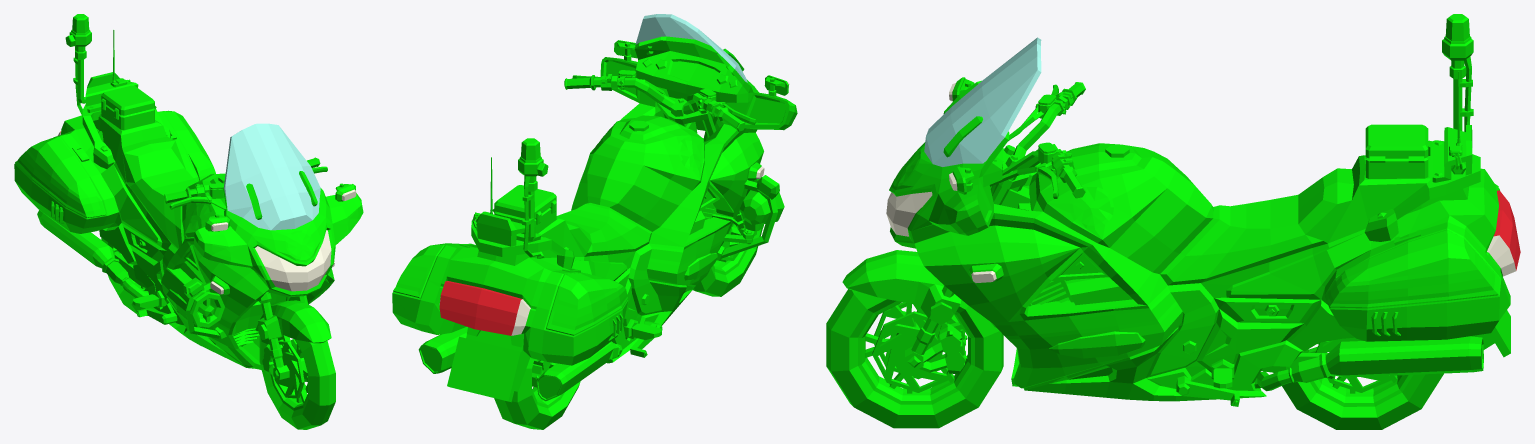
File: SM_Motorcycle_Police_Touring_Modern.fbx
3 views of the same model, side by side, from view 1: azimuth 30°, elevation 25°; view 2: azimuth 150°, elevation 25°; view 3: azimuth 270°, elevation 25° (orthographic). The views are drawn at different scales.
Visible parts, largest first — view 1: SM_Motorcycle_Police_Touring_Modern_Base, SM_Motorcycle_Police_Touring_Modern_Wheel_F, SM_Motorcycle_Police_Touring_Handlebars_Modern_Base, SM_Motorcycle_Police_Touring_Modern_Wheel_B; view 2: SM_Motorcycle_Police_Touring_Modern_Base, SM_Motorcycle_Police_Touring_Handlebars_Modern_Base, SM_Motorcycle_Police_Touring_Modern_Wheel_B, SM_Motorcycle_Police_Touring_Modern_Wheel_F; view 3: SM_Motorcycle_Police_Touring_Modern_Base, SM_Motorcycle_Police_Touring_Modern_Wheel_F, SM_Motorcycle_Police_Touring_Handlebars_Modern_Base, SM_Motorcycle_Police_Touring_Modern_Wheel_B.
Part boxes in pixels (x1=…): SM_Motorcycle_Police_Touring_Modern_Base: x1=14, y1=14, x2=363, y2=369; SM_Motorcycle_Police_Touring_Modern_Wheel_F: x1=259, y1=335, x2=335, y2=429; SM_Motorcycle_Police_Touring_Handlebars_Modern_Base: x1=164, y1=157, x2=331, y2=380; SM_Motorcycle_Police_Touring_Modern_Wheel_B: x1=101, y1=237, x2=147, y2=315; SM_Motorcycle_Police_Touring_Modern_Base: x1=392, y1=14, x2=797, y2=402; SM_Motorcycle_Police_Touring_Handlebars_Modern_Base: x1=564, y1=70, x2=756, y2=247; SM_Motorcycle_Police_Touring_Modern_Wheel_B: x1=494, y1=357, x2=580, y2=429; SM_Motorcycle_Police_Touring_Modern_Wheel_F: x1=693, y1=177, x2=762, y2=296; SM_Motorcycle_Police_Touring_Modern_Base: x1=886, y1=14, x2=1520, y2=406; SM_Motorcycle_Police_Touring_Modern_Wheel_F: x1=826, y1=289, x2=1003, y2=428; SM_Motorcycle_Police_Touring_Handlebars_Modern_Base: x1=842, y1=82, x2=1085, y2=374; SM_Motorcycle_Police_Touring_Modern_Wheel_B: x1=1273, y1=337, x2=1443, y2=429.
Size of the model in its own units: 0.9226 by 1.48 by 2.39.
